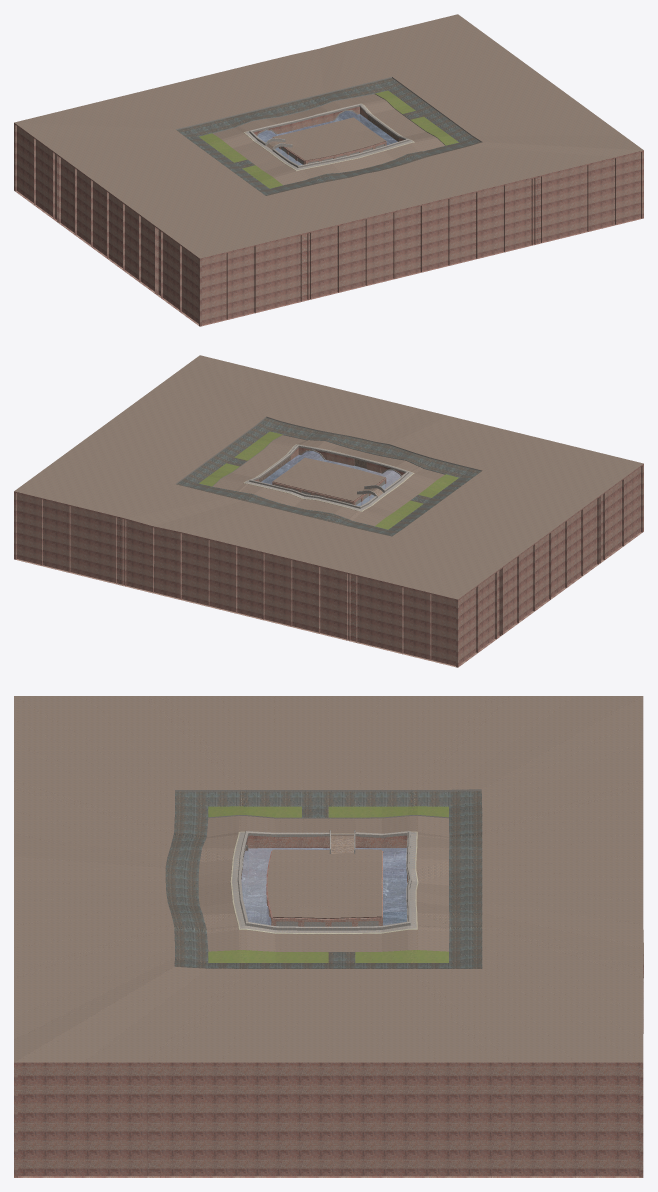
File: townground4.fbx
3 renders of one model, top to bottom at view 1: azimuth 30°, elevation 25°; view 2: azimuth 150°, elevation 25°; view 3: azimuth 270°, elevation 25°, orthographic. The views are drawn at different scales.
Parts seen in each view (by area): view 1: Plane; view 2: Plane; view 3: Plane.
Part boxes in pixels (box(x1,y1,x2,y2)): Plane: box(14, 14, 643, 326); Plane: box(14, 355, 643, 667); Plane: box(14, 696, 643, 1177).
Bounding box in the file's own units: 24912 × 3888 × 18092.
7 materials, 7 textured.
